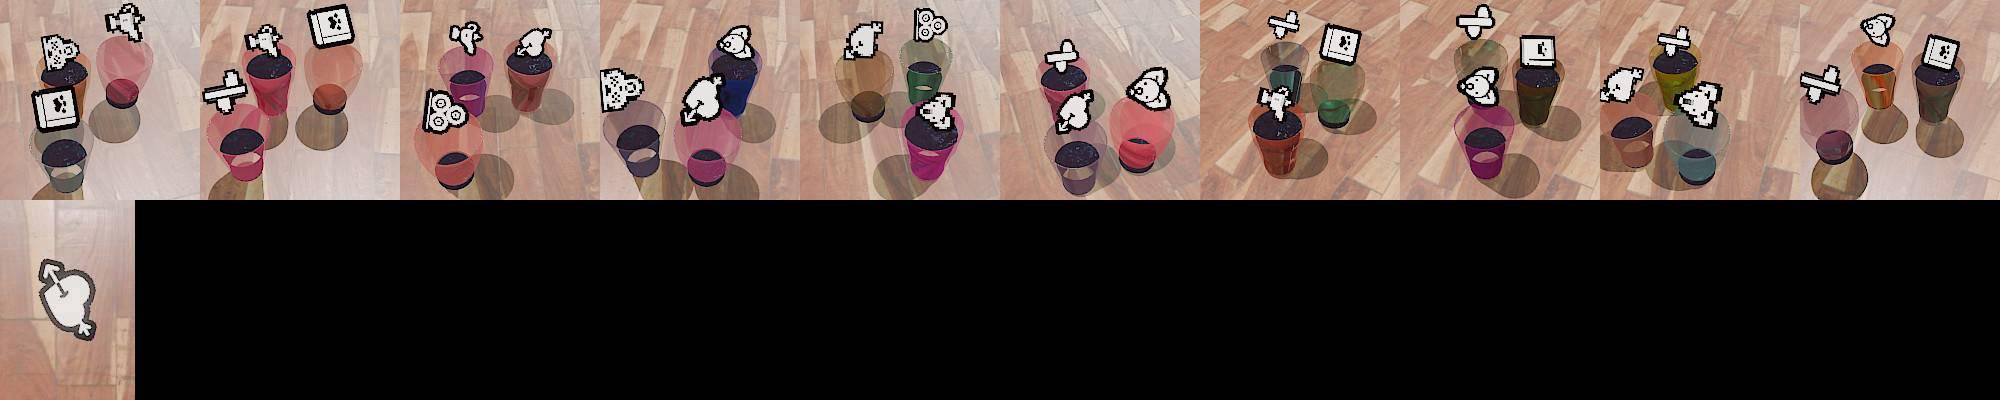icon: (36, 257, 100, 342), (31, 84, 81, 134), (679, 74, 726, 124), (306, 3, 355, 50), (202, 69, 250, 116), (599, 66, 646, 114), (1675, 81, 1722, 127), (423, 87, 469, 134), (1126, 66, 1173, 111), (1054, 88, 1095, 135), (1318, 22, 1362, 65), (1458, 65, 1501, 107), (1599, 65, 1645, 104), (1799, 64, 1842, 105), (1257, 83, 1294, 128), (917, 90, 957, 131), (105, 3, 146, 43), (843, 20, 883, 60), (1920, 34, 1961, 73), (243, 23, 286, 59), (41, 34, 80, 73), (1455, 3, 1496, 40), (1519, 34, 1557, 70), (913, 6, 949, 43), (716, 24, 754, 59), (514, 27, 554, 60), (1860, 12, 1896, 48), (448, 21, 484, 56), (1044, 38, 1081, 71), (1656, 25, 1692, 57), (1268, 9, 1301, 41)
